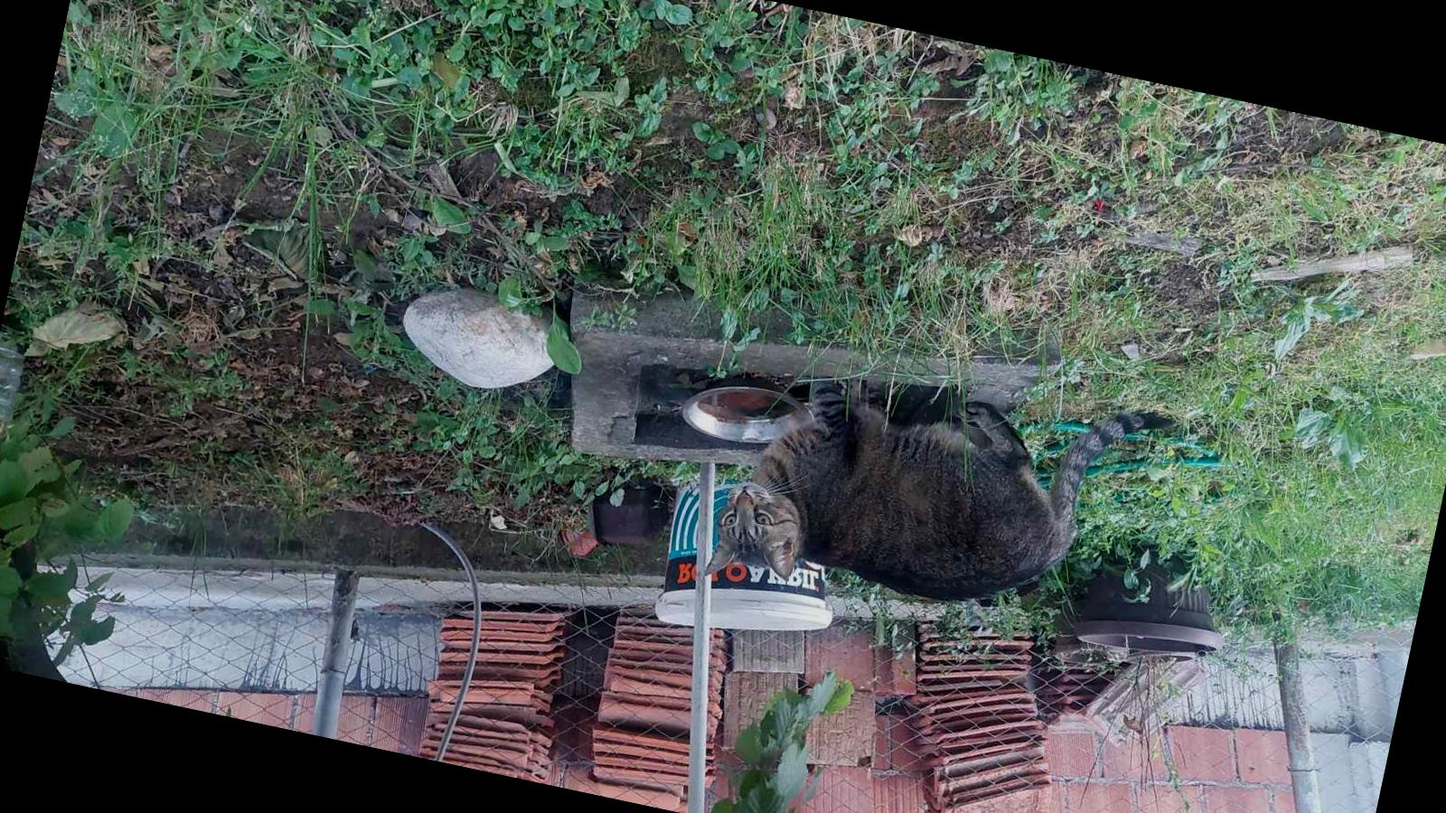macka: (703, 328, 1176, 664)
